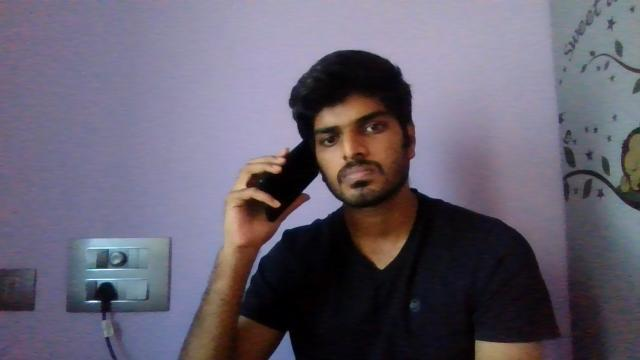PhoneUse: (252, 140, 308, 224)
SafeDriving: (358, 115, 389, 140), (314, 128, 344, 150)
